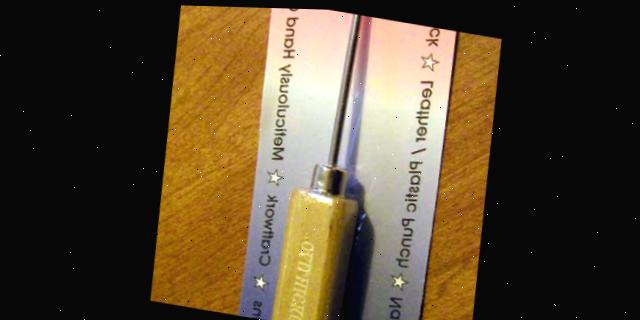ice pick: (257, 6, 389, 320)
